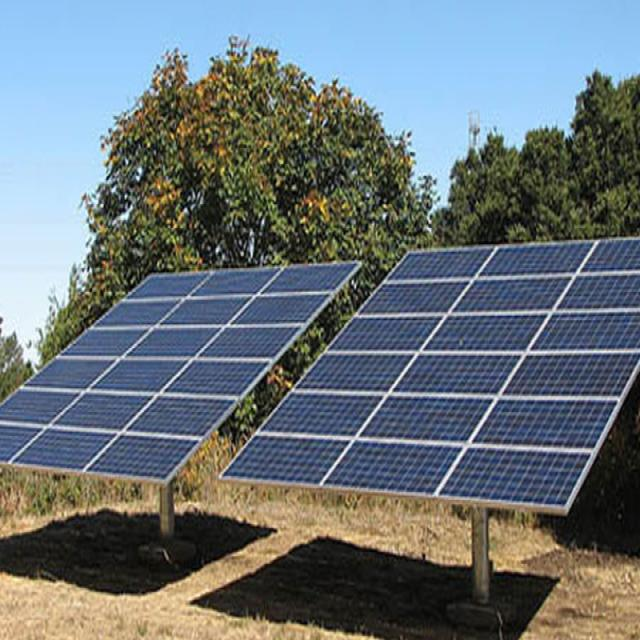clean-solar-panel: (224, 238, 640, 511), (0, 260, 359, 532)
